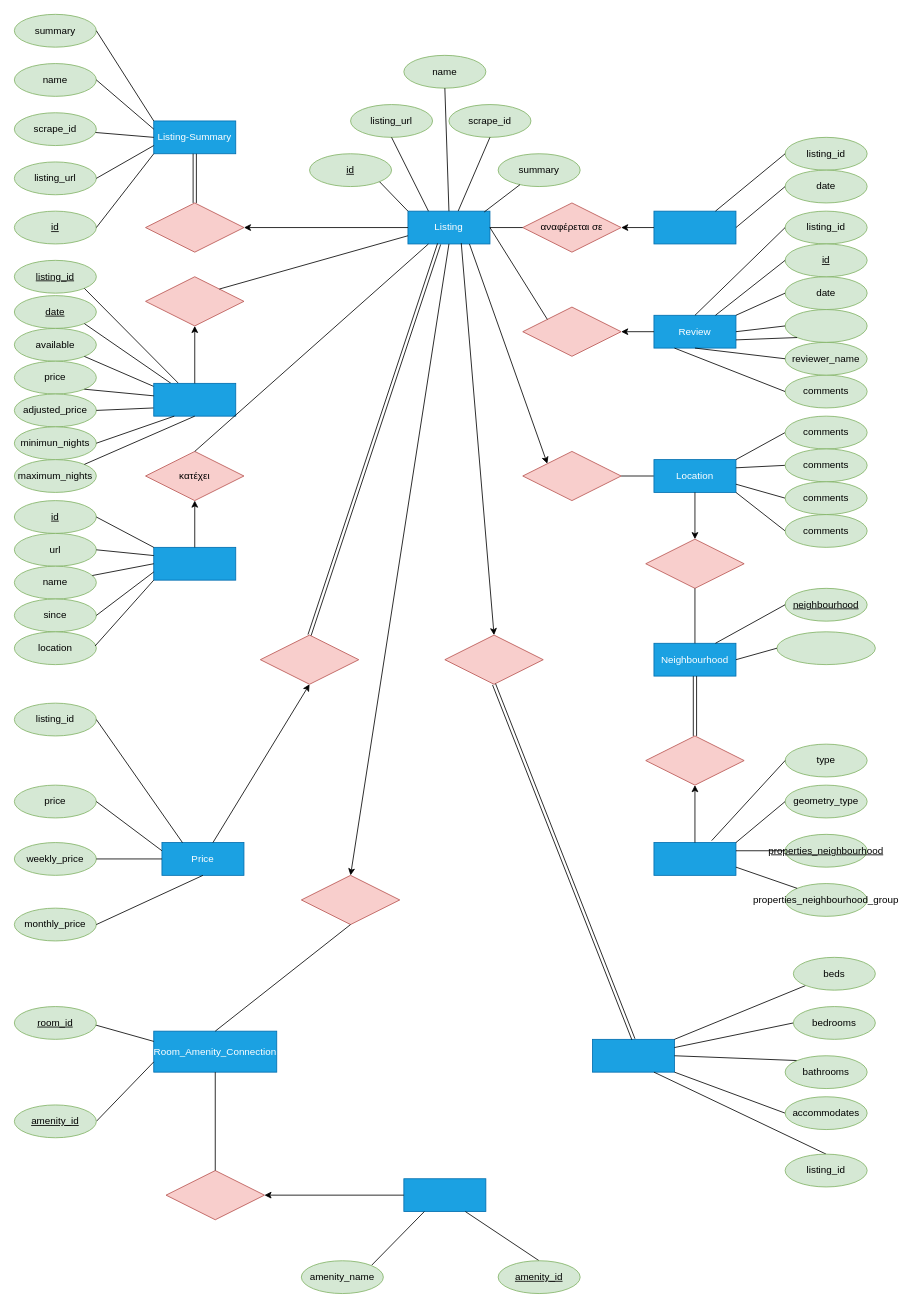
Some shapes in this 913 by 1308 pixel diagram are drawn without their labels. Each missing label, with the centre of its shape:
"Amenity" goes at point (444, 1195).
"Calendar" goes at point (194, 399).
"Geolocation" goes at point (694, 858).
"Host" goes at point (194, 563).
"neighbourhood_group" goes at point (825, 648).
"Review-Summary" goes at point (694, 227).
"reviewer_id" goes at point (825, 325).
"Room" goes at point (633, 1055).
"ανήκει σε" goes at point (694, 563).
"αξιολογεί" goes at point (571, 331).
"βρίσκεται σε" goes at point (571, 476).
"κοστολογεί" goes at point (309, 659).
"περιγράφει" goes at point (194, 301).
"προωθεί ένα" goes at point (493, 659).
"συμπεριλαμβάνει" goes at point (350, 900).
"συνδέεται από" goes at point (214, 1195).
"συνοψίζεται από" goes at point (194, 227).
"χαρακτηρίζει" goes at point (694, 760).
